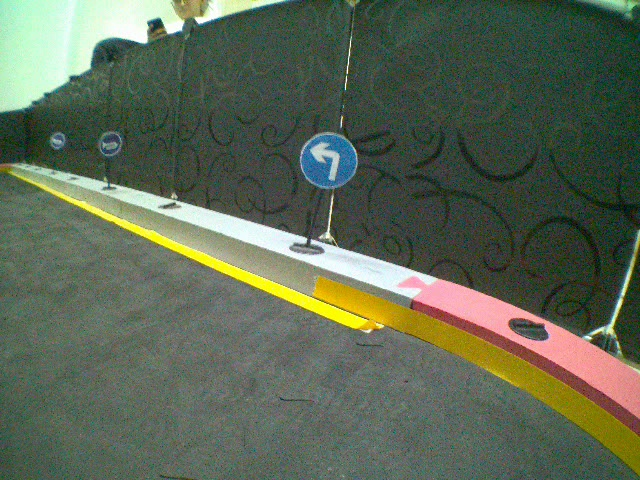horn: (98, 131, 122, 157), (50, 131, 65, 149)
turn: (298, 130, 358, 190)
